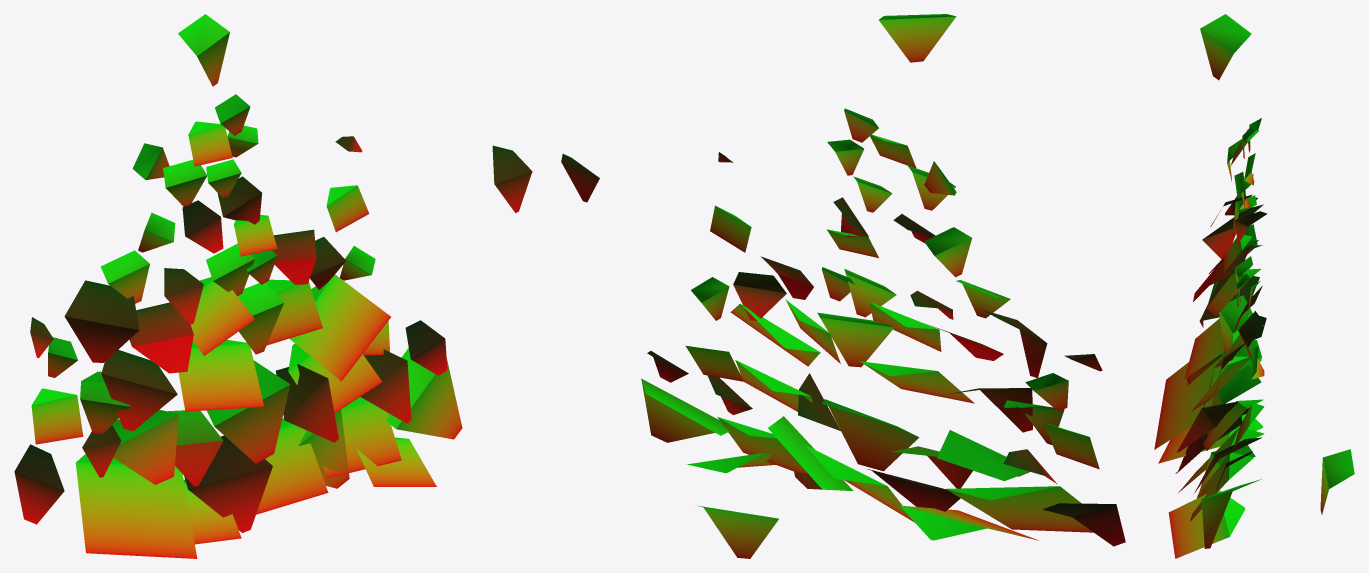
Rendered from Lierre8_LOD1.fbx.
3 renders of one model, left to right at view 1: azimuth 30°, elevation 25°; view 2: azimuth 150°, elevation 25°; view 3: azimuth 270°, elevation 25°, orthographic. The views are drawn at different scales.
Parts seen in each view (by area): view 1: _f408_Var7_LOD2; view 2: _f408_Var7_LOD2; view 3: _f408_Var7_LOD2.
Part boxes in pixels (x1,y1,x2,y2): _f408_Var7_LOD2: [14, 14, 532, 558]; _f408_Var7_LOD2: [561, 14, 1125, 558]; _f408_Var7_LOD2: [1154, 14, 1354, 558].
Size of the model in its own units: 41.78 by 38.42 by 15.69.
